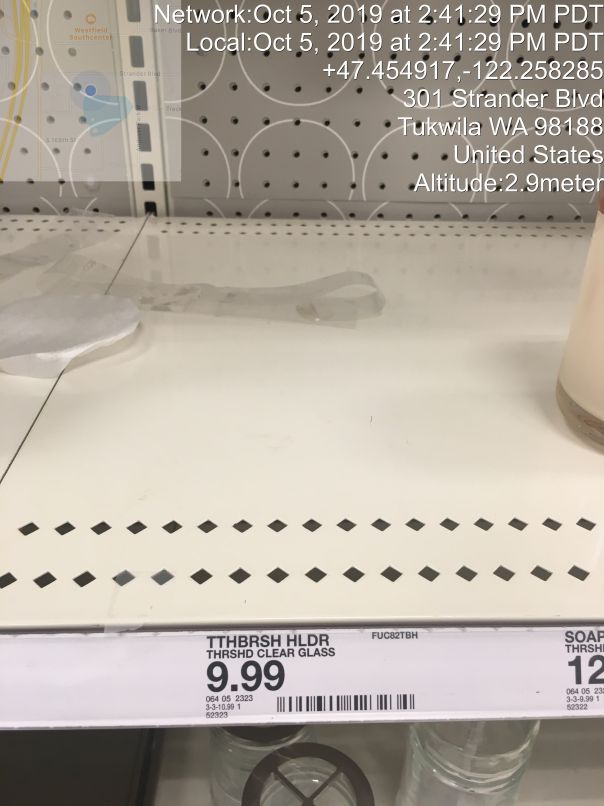Label: (192, 621, 443, 732)
Location: (391, 84, 604, 172)
Time: (147, 4, 604, 57)
Void: (67, 97, 537, 583)
